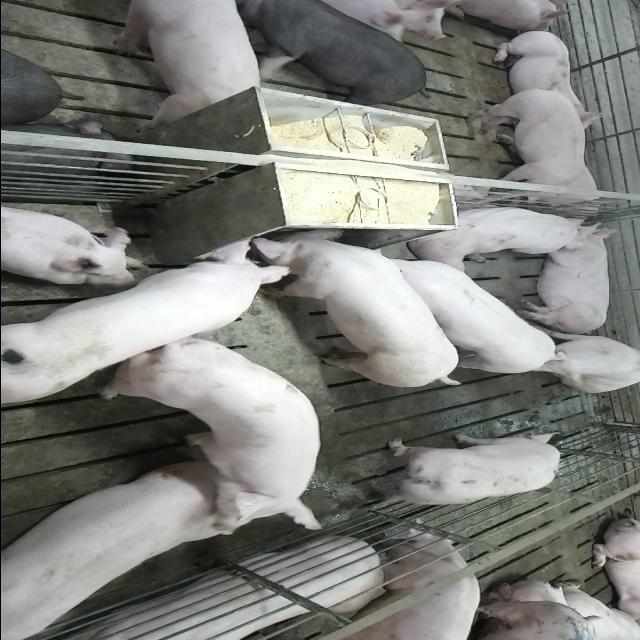Feeding: (5, 228, 294, 400), (240, 220, 467, 386)
Lateral_lying: (31, 540, 397, 640), (515, 222, 620, 336)
Sitting: (518, 332, 639, 394)
Standing: (88, 340, 320, 538), (0, 473, 231, 640), (360, 250, 562, 378), (224, 2, 426, 105), (101, 1, 263, 126), (458, 86, 588, 214), (356, 429, 562, 508), (340, 531, 478, 640)
Sternal_lying: (0, 201, 146, 283), (488, 31, 609, 127), (405, 202, 585, 266)
